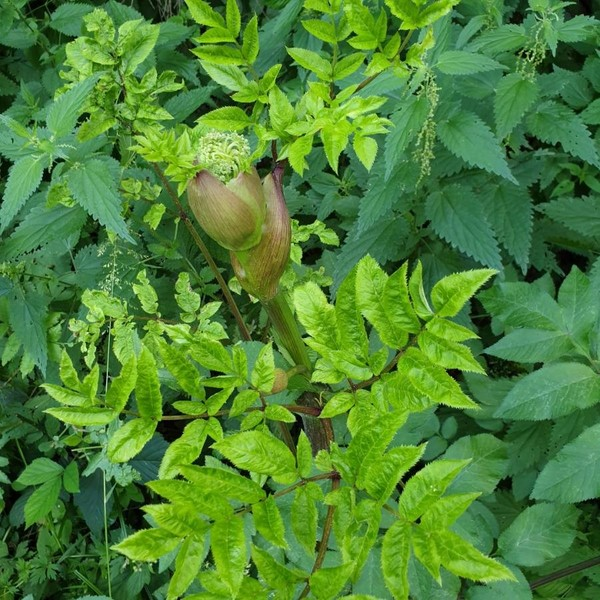obstacle: (63, 44, 514, 583), (347, 57, 506, 263), (473, 224, 589, 494)
